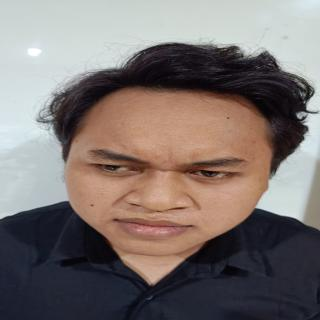Marah: (61, 84, 274, 261)
